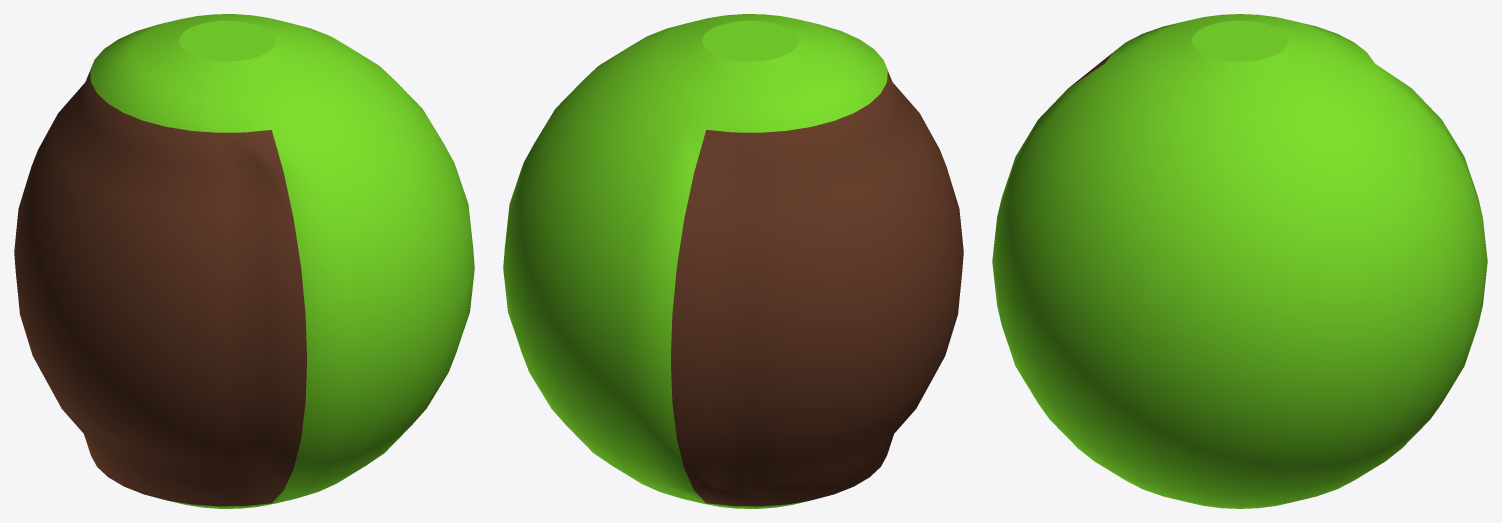
The model's file is Planet01.FBX.
3 renders of one model, left to right at view 1: azimuth 30°, elevation 25°; view 2: azimuth 150°, elevation 25°; view 3: azimuth 270°, elevation 25°, orthographic.
Parts seen in each view (by area): view 1: Planet, Planet_Top01; view 2: Planet, Planet_Top01; view 3: Planet, Planet_Top01.
Part boxes in pixels (x1=…): Planet: x1=14, y1=14, x2=474, y2=508; Planet_Top01: x1=179, y1=20, x2=275, y2=61; Planet: x1=503, y1=14, x2=963, y2=508; Planet_Top01: x1=702, y1=20, x2=798, y2=61; Planet: x1=992, y1=14, x2=1487, y2=508; Planet_Top01: x1=1191, y1=20, x2=1288, y2=61.
Bounding box in the file's own units: 1093 × 1167 × 1178.
